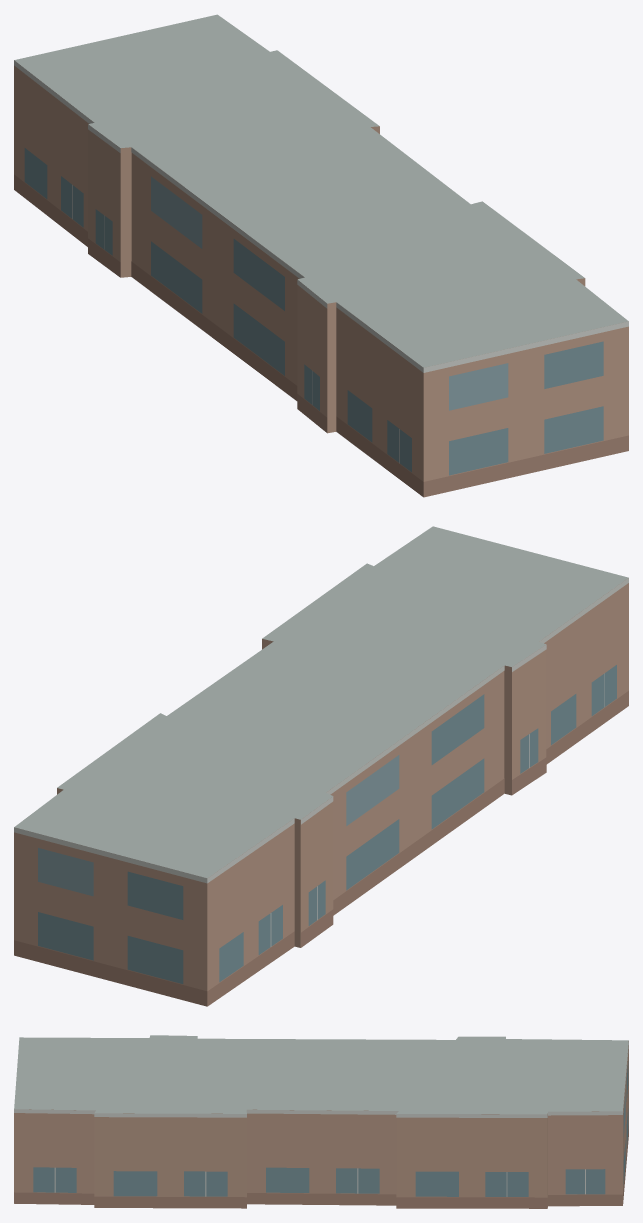
The model's file is survey-upis-32499646.glb.
3 views of the same model, one above another, from view 1: azimuth 30°, elevation 25°; view 2: azimuth 150°, elevation 25°; view 3: azimuth 270°, elevation 25° (orthographic). The views are drawn at different scales.
Visible parts, largest first — view 1: survey-upis-32499646.tmp; view 2: survey-upis-32499646.tmp; view 3: survey-upis-32499646.tmp.
Part boxes in pixels (x1,y1,x2,y2): survey-upis-32499646.tmp: [14, 14, 628, 497]; survey-upis-32499646.tmp: [14, 526, 628, 1006]; survey-upis-32499646.tmp: [14, 1035, 628, 1208].
Bounding box in the file's own units: 10.96 × 6.1 × 35.96.
